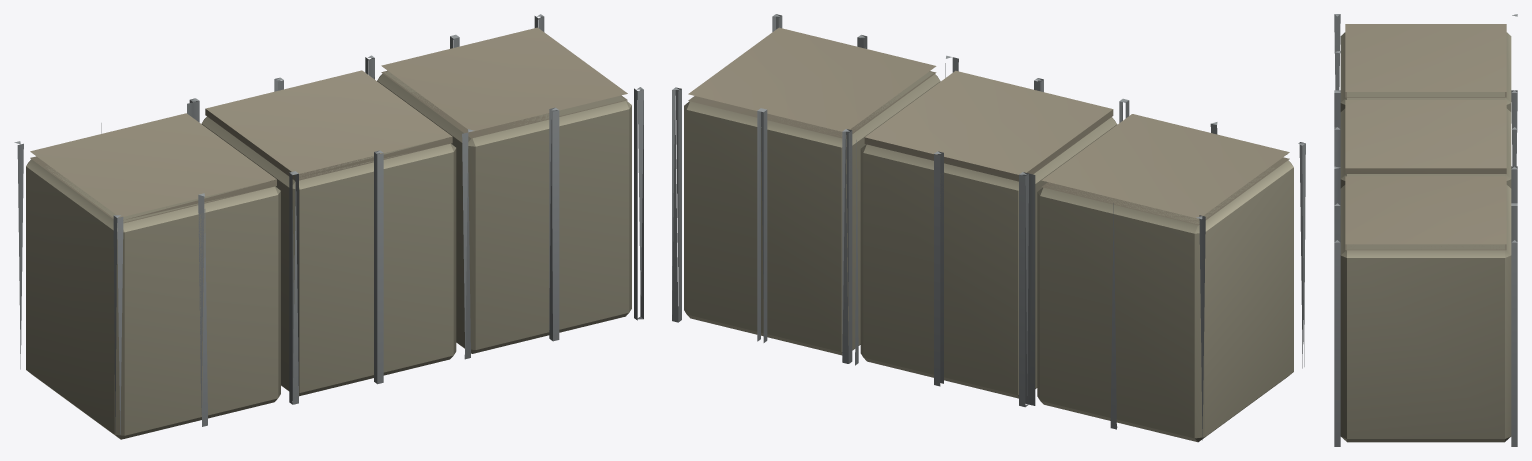
The model's file is mil_hesco.lod.glb.
3 renders of one model, left to right at view 1: azimuth 30°, elevation 25°; view 2: azimuth 150°, elevation 25°; view 3: azimuth 270°, elevation 25°, orthographic. The views are drawn at different scales.
Parts seen in each view (by area): view 1: mil_hesco; view 2: mil_hesco; view 3: mil_hesco.
Part boxes in pixels (<box>): mil_hesco: <box>14,14,643,439</box>; mil_hesco: <box>672,14,1305,442</box>; mil_hesco: <box>1334,14,1517,446</box>.
Size of the model in its own units: 3.36 by 1.4 by 1.14.
